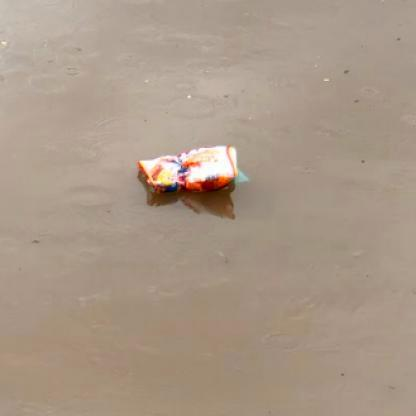Trash: (137, 144, 239, 201)
